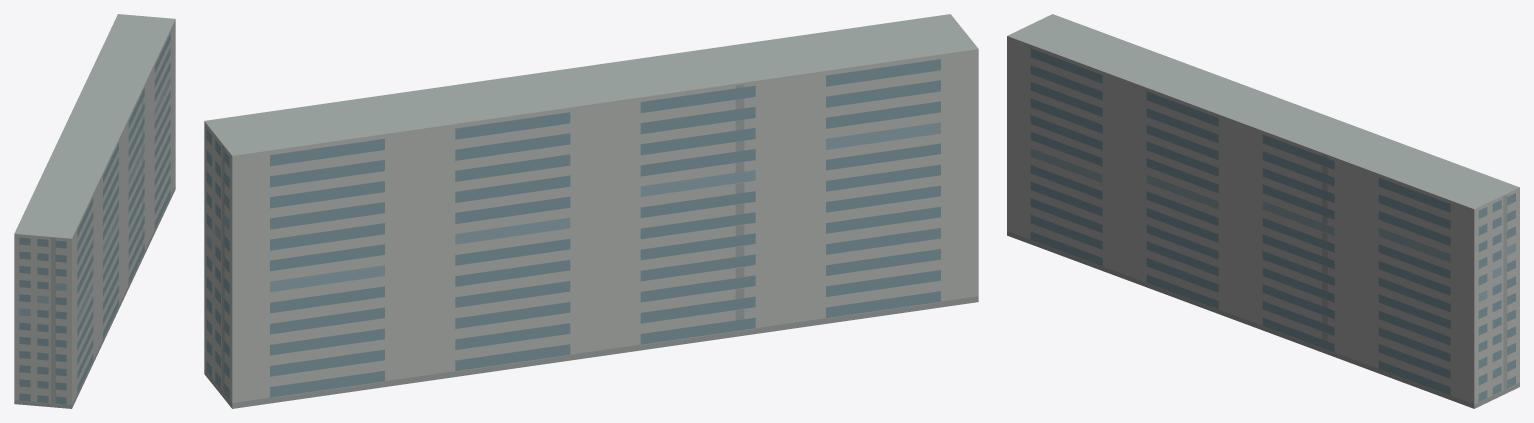
Rendered from residential-fb70d680-743f-4278-bd8c-2c9b983e3cab.glb.
The picture shows the model from 3 angles, left to right: view 1: azimuth 30°, elevation 25°; view 2: azimuth 150°, elevation 25°; view 3: azimuth 270°, elevation 25°; orthographic projection. The views are drawn at different scales.
Parts seen in each view (by area): view 1: residential-fb70d680-743f-4278-bd8c-2c9b983e3cab.tmp; view 2: residential-fb70d680-743f-4278-bd8c-2c9b983e3cab.tmp; view 3: residential-fb70d680-743f-4278-bd8c-2c9b983e3cab.tmp.
Boxes of the visible parts, <box> form: residential-fb70d680-743f-4278-bd8c-2c9b983e3cab.tmp: <box>14,14,175,408</box>; residential-fb70d680-743f-4278-bd8c-2c9b983e3cab.tmp: <box>204,14,978,408</box>; residential-fb70d680-743f-4278-bd8c-2c9b983e3cab.tmp: <box>1007,14,1519,408</box>.
Size of the model in its own units: 76.79 by 36.6 by 85.21.
